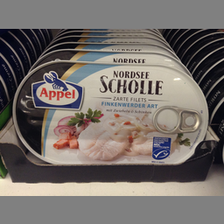fish: (12, 60, 208, 166)
